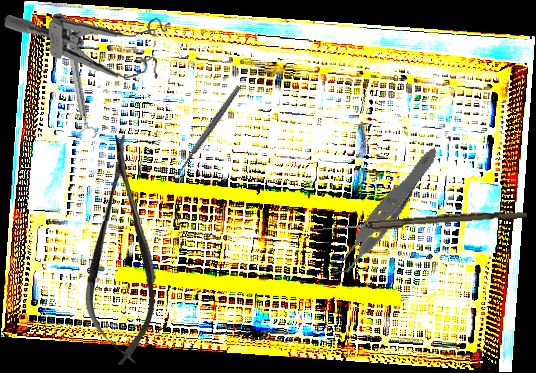Fixation Ring: (57, 18, 98, 141)
Micro Scissor: (83, 134, 161, 366)
Speculum: (3, 6, 175, 87)
Surgical Spoon: (170, 84, 243, 182), (312, 206, 528, 237)
Tissue Forceps: (295, 146, 465, 281)
